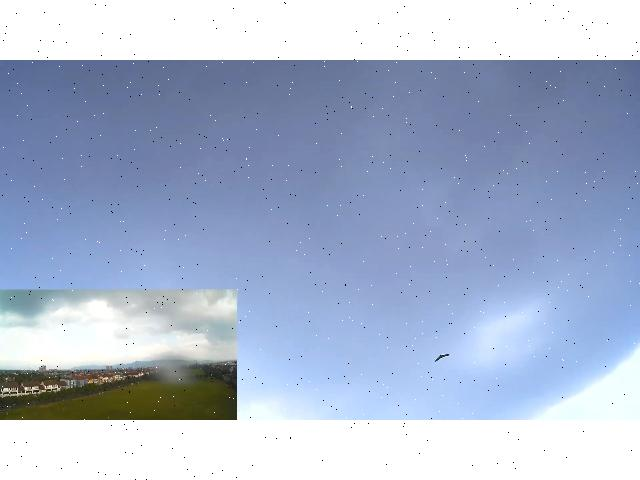Anti-Drone: (434, 355, 450, 362)
